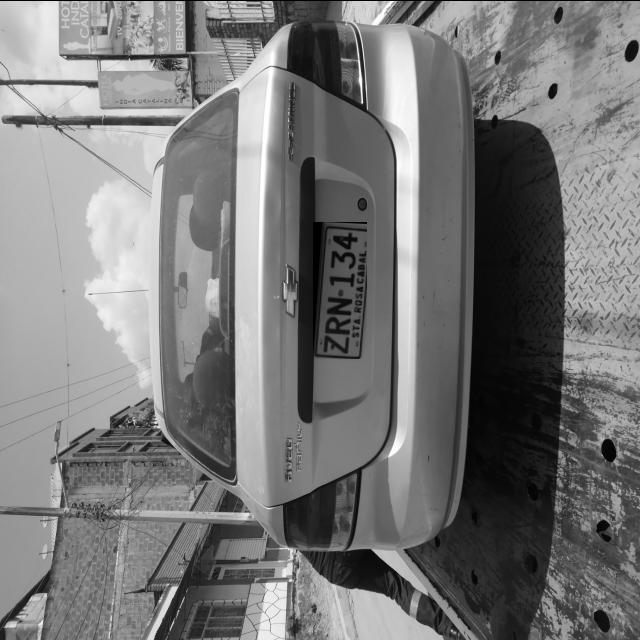plate: (313, 221, 367, 358)
